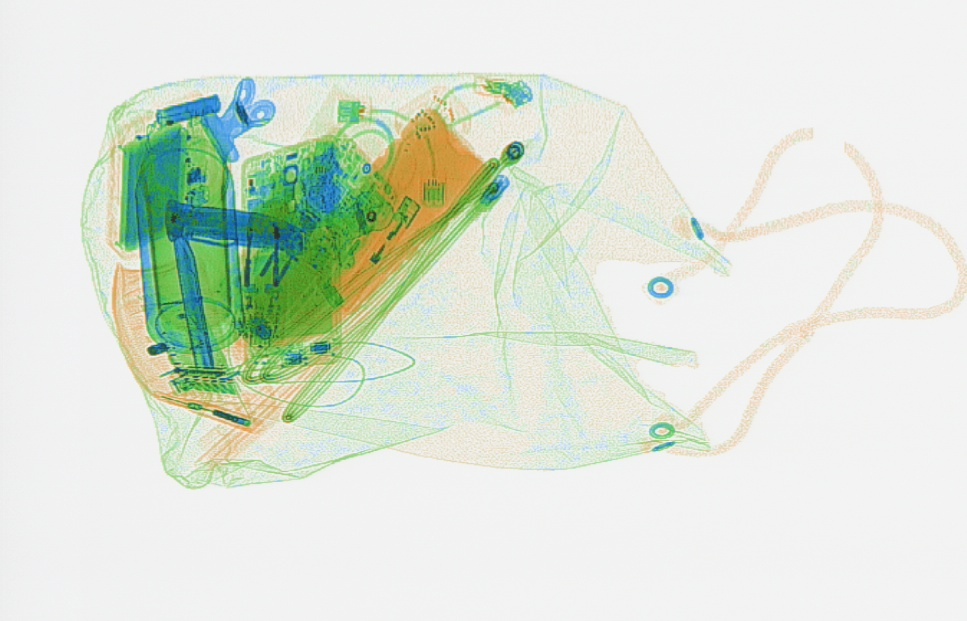knife: (162, 194, 302, 256), (173, 234, 214, 376)
lighter: (333, 191, 423, 320)
